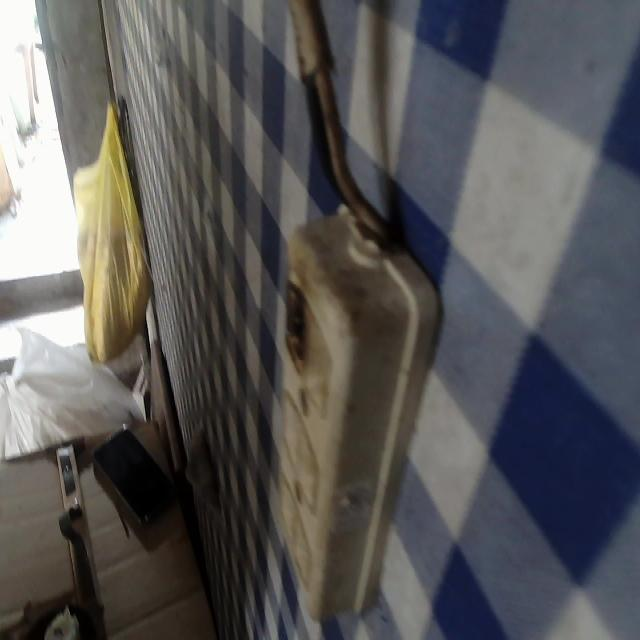-: (282, 284, 309, 367)
